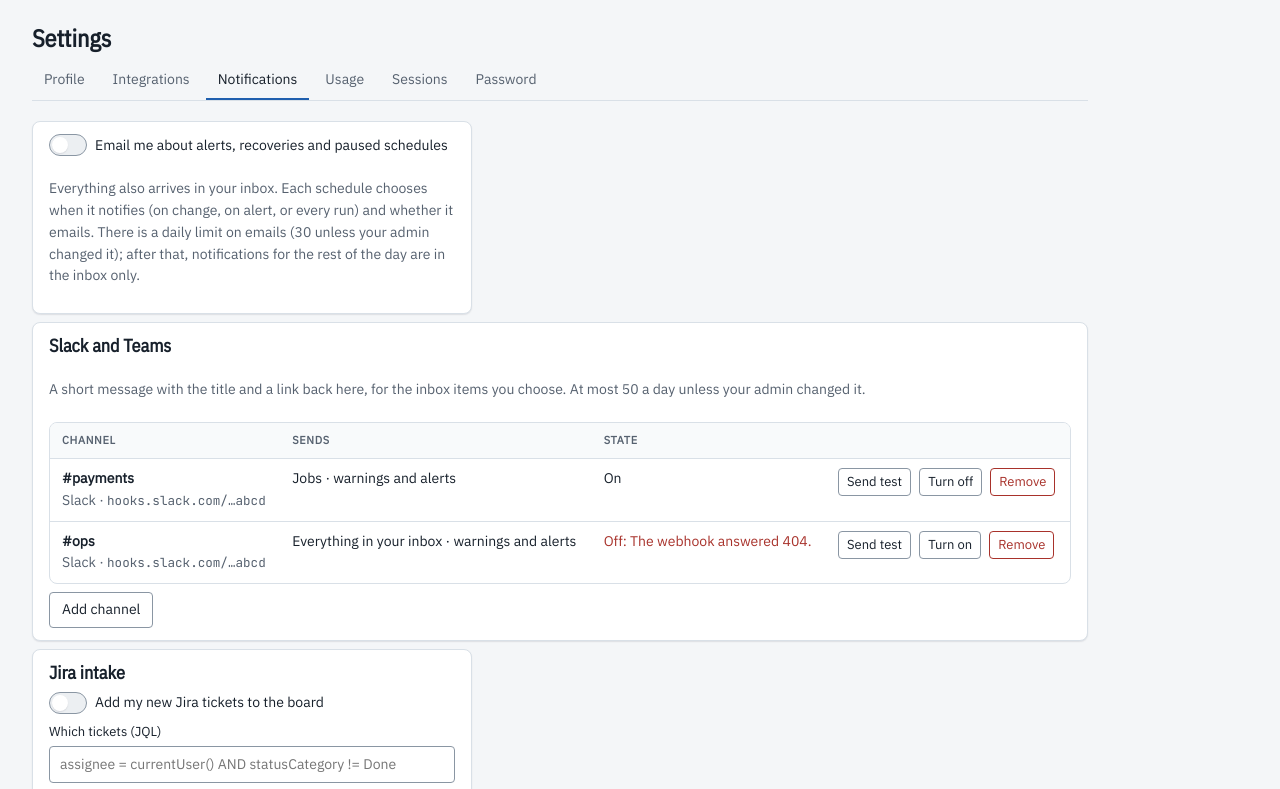
Test: Slack and Teams channels (08 §F8) › lists channels, sends a test, and turns a dead one back on
Later steps or results of the test are not shown.
Check: the row "#payments" shows "hooks.slack.com/…abcd", box [107,492,266,509]
Check: the row "#payments" shows "Jobs · warnings and alerts", box [292,469,456,487]
Click the button "Send test" in the row of "#payments" at (875, 482), box [838,468,911,496]
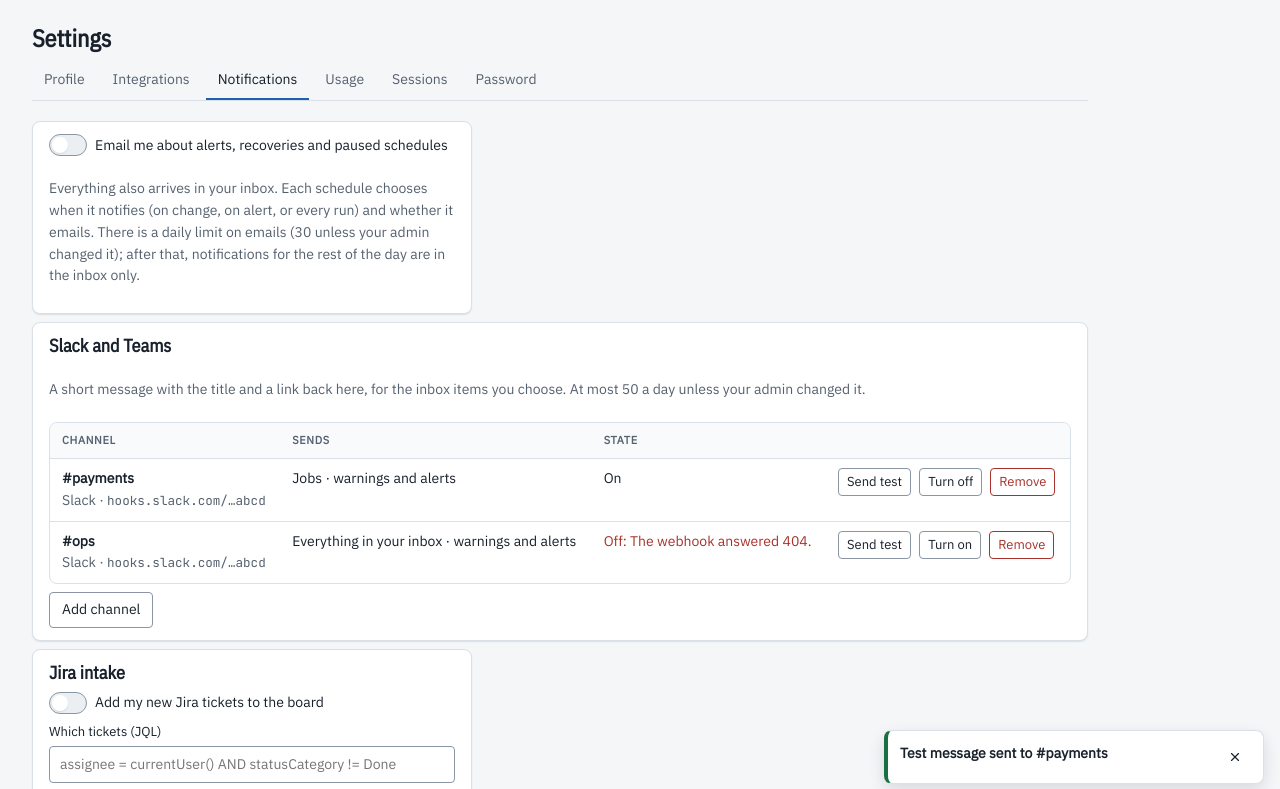
Check: the text "Test message sent to #payments" is shown, box [900,744,1108,762]
Click the button "Send test" in the row of "Jobs · warnings and alerts" at (875, 482), box [838,468,911,496]
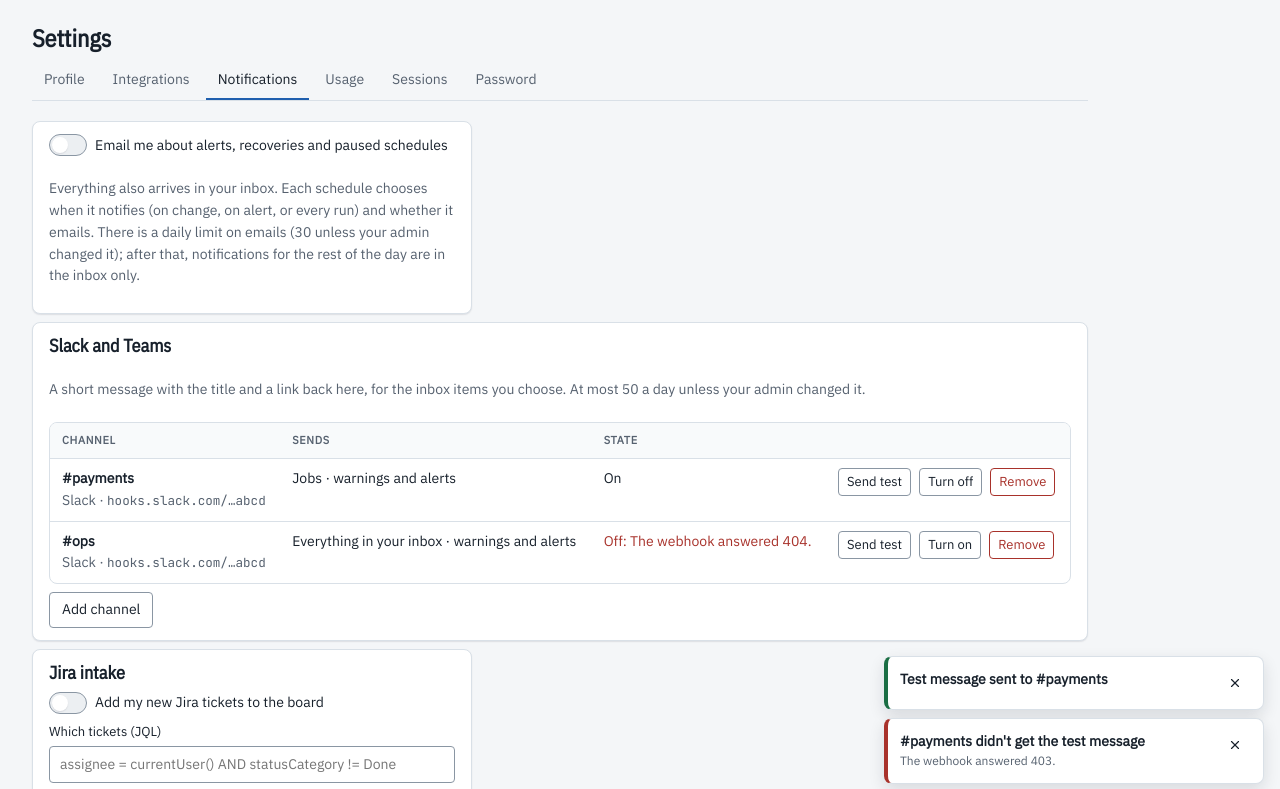
Check: the text "#payments didn't get the test message" is shown, box [900,732,1145,750]
